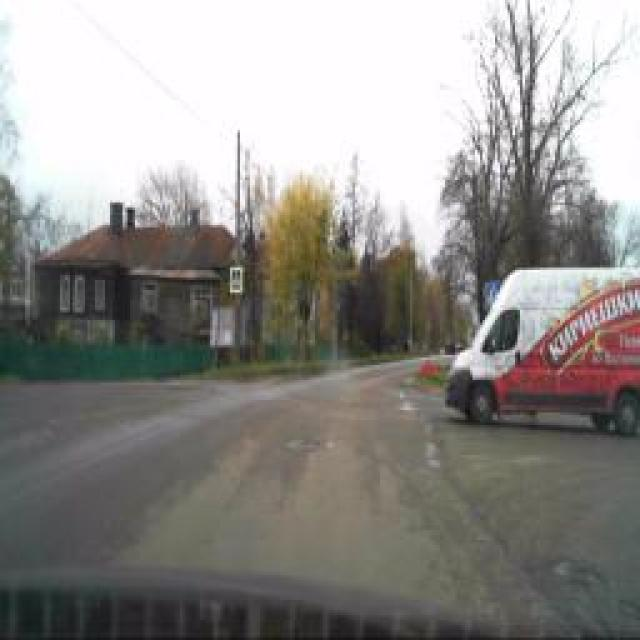sign: (423, 298, 435, 320)
